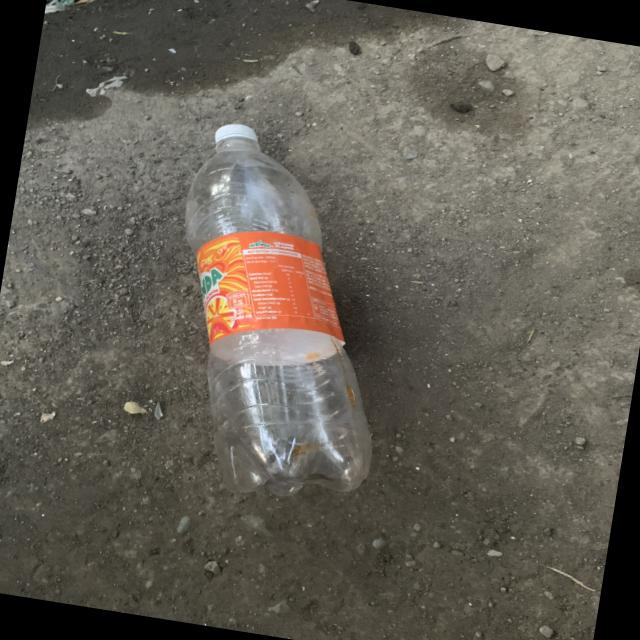Bottle: (186, 124, 371, 495)
